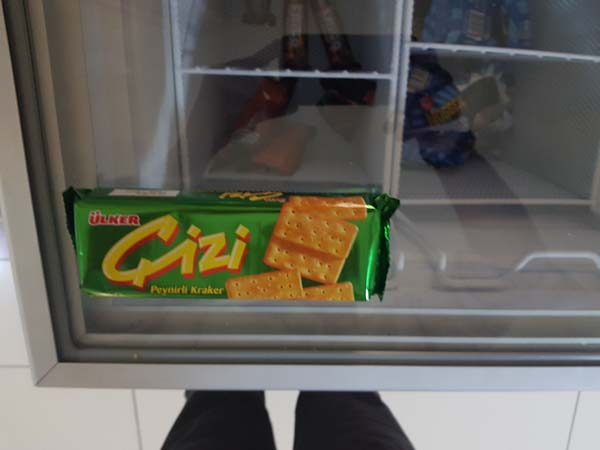cizi: (57, 184, 401, 312)
